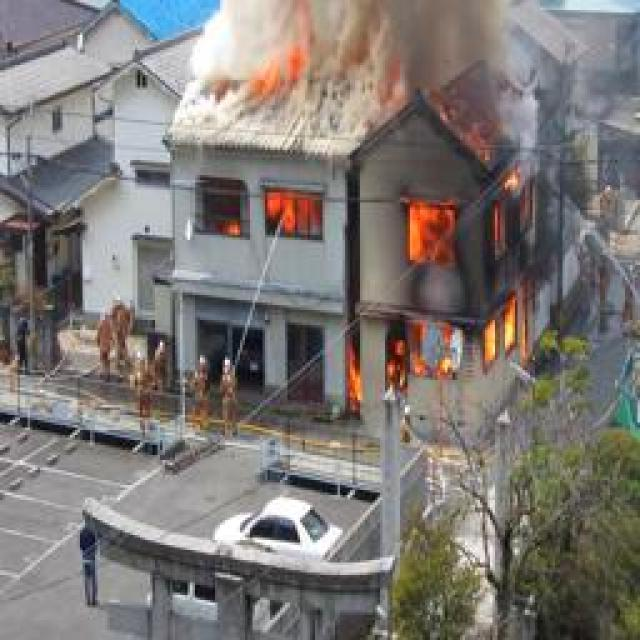Fire: (338, 144, 550, 413), (243, 9, 353, 97), (194, 196, 331, 243)
